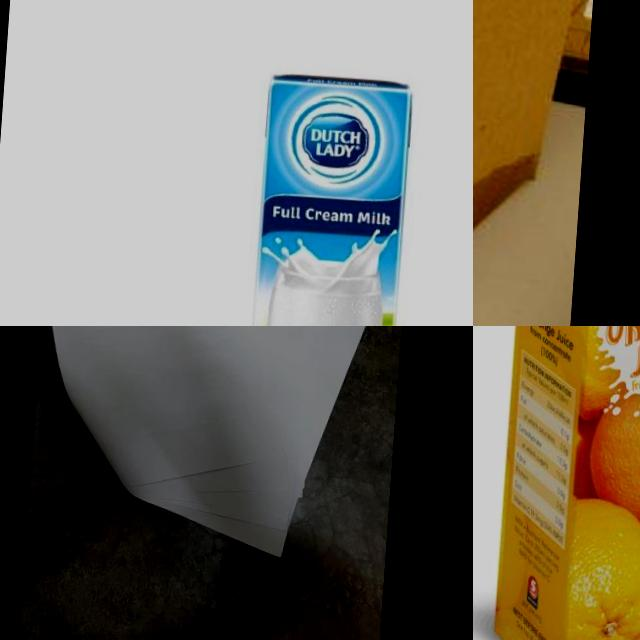caixinha: (488, 326, 640, 640), (243, 67, 415, 326)
papel: (26, 326, 386, 560)
papelão: (473, 0, 605, 326)
